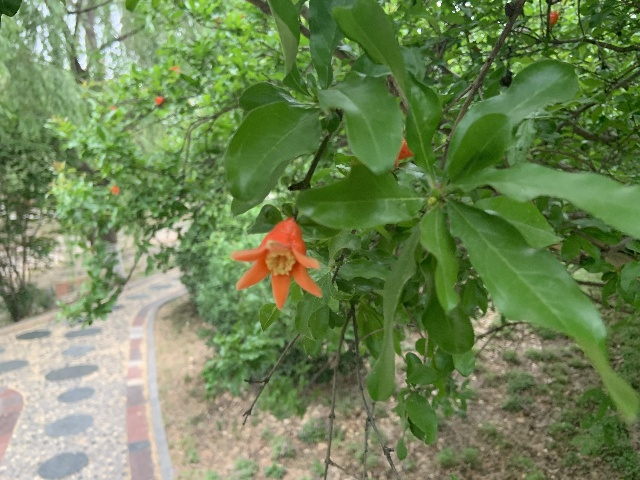flower: (230, 216, 322, 309), (394, 137, 414, 166), (548, 10, 559, 26), (110, 185, 120, 194), (155, 96, 163, 104)
